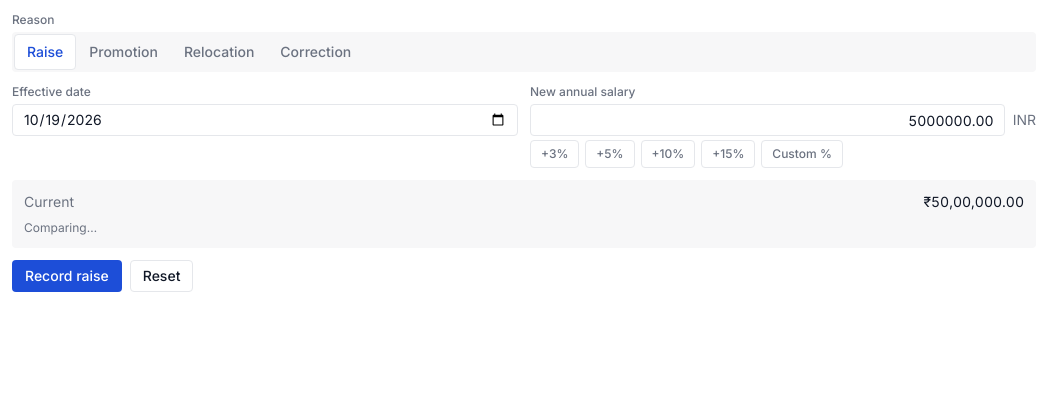
it: SalaryChangeForm › clears the percentage error once the percentage is edited
Click the button "Custom %" at (802, 154), box x1=761 y1=140 x2=843 y2=168
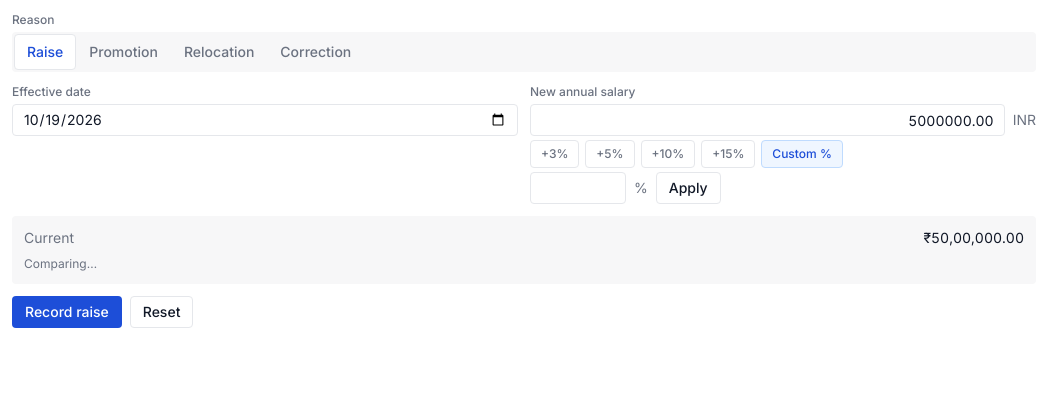
Type "0" into the field named "Custom percentage" at (578, 188), box x1=530 y1=172 x2=626 y2=204
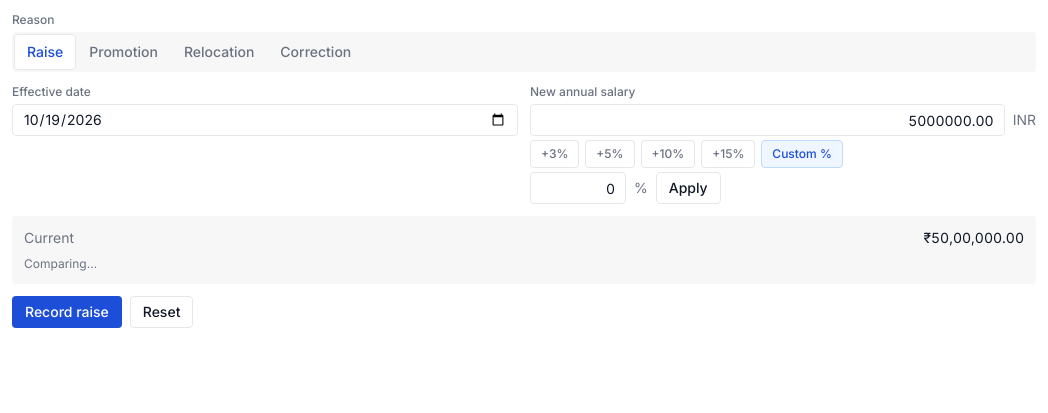
Click the button "Apply" at (688, 188), box x1=656 y1=172 x2=721 y2=204
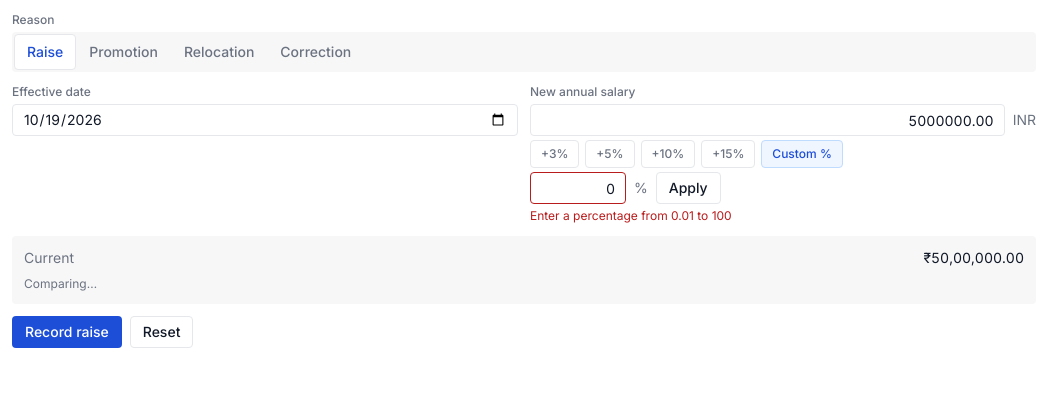
Expected: the text "Enter a percentage from 0.01 to 100" is shown, x1=530 y1=208 x2=732 y2=223
Replace the text in the field named "Custom percentage" with "5" at (578, 188), box x1=530 y1=172 x2=626 y2=204
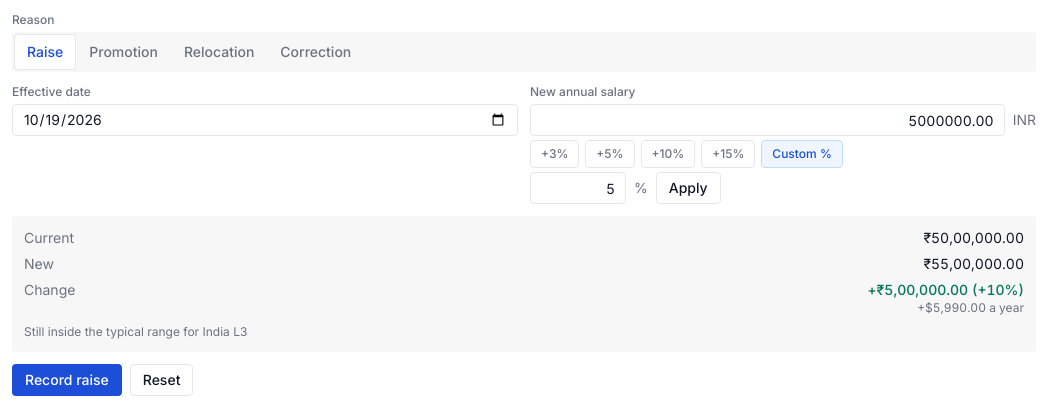
Expected: the text "Enter a percentage from 0.01 to 100" is gone
